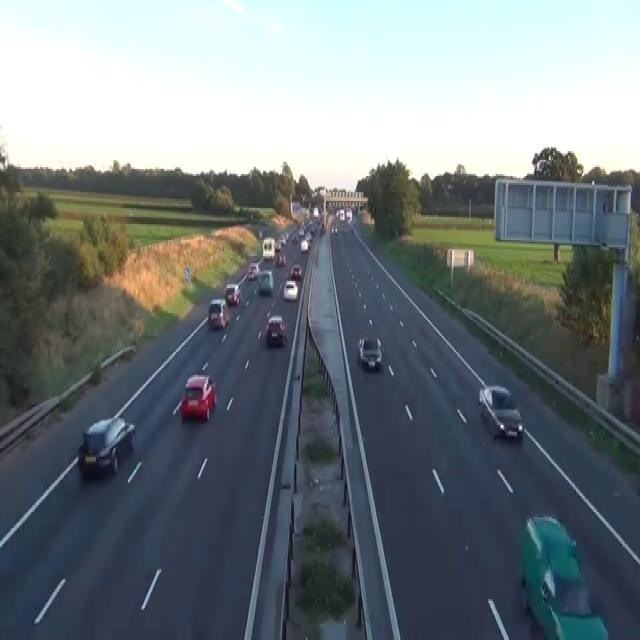Car: (519, 512, 609, 638), (519, 512, 579, 601), (77, 416, 136, 476), (477, 384, 523, 439), (543, 604, 609, 638), (180, 374, 216, 422), (358, 336, 382, 370), (207, 297, 229, 329), (265, 314, 286, 346), (257, 269, 274, 295), (223, 282, 240, 306), (283, 279, 298, 301), (247, 261, 259, 279), (290, 263, 302, 279), (276, 250, 286, 266), (304, 231, 312, 244), (300, 240, 308, 252), (274, 240, 281, 251), (340, 224, 348, 233), (279, 235, 286, 245), (297, 226, 304, 236), (320, 222, 326, 233), (331, 224, 337, 233), (291, 234, 297, 243), (258, 228, 262, 238)
Truck: (262, 237, 275, 260)
